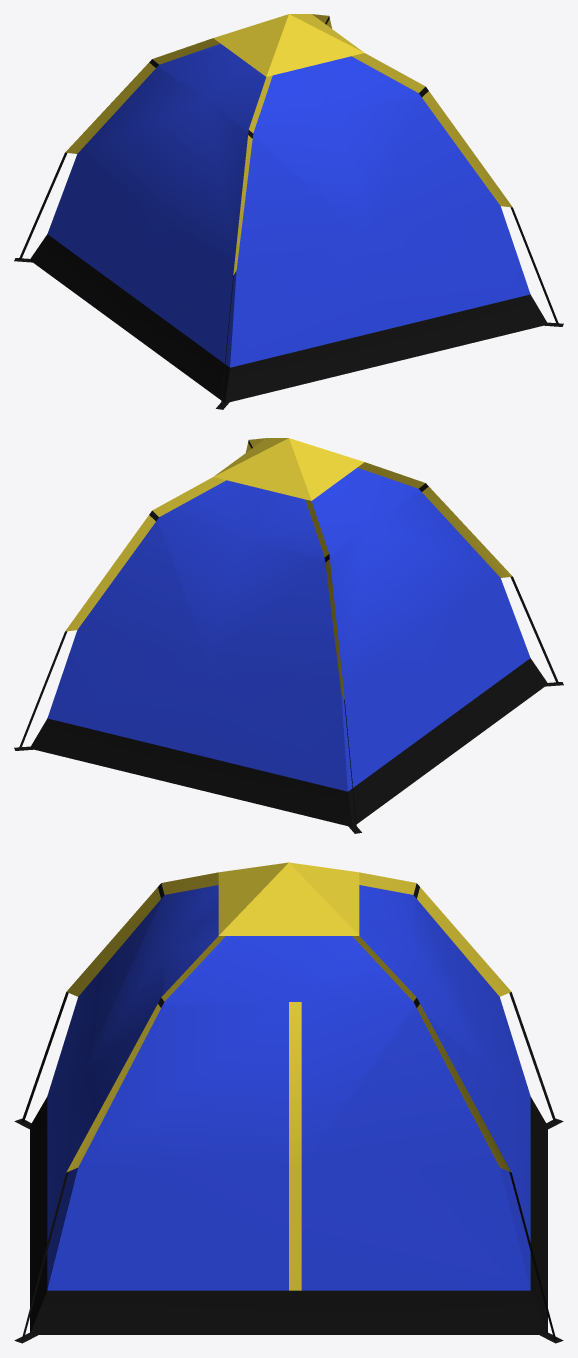
File: tent.glb
The picture shows the model from 3 angles, top to bottom: view 1: azimuth 30°, elevation 25°; view 2: azimuth 150°, elevation 25°; view 3: azimuth 270°, elevation 25°; orthographic projection. The views are drawn at different scales.
Parts seen in each view (by area): view 1: Cube.005; view 2: Cube.005; view 3: Cube.005.
Boxes of the visible parts, box(x1,y1,x2,y2) form: Cube.005: box(14, 14, 563, 409); Cube.005: box(14, 438, 563, 833); Cube.005: box(14, 862, 563, 1343).
Size of the model in its own units: 2.68 by 2.04 by 2.76.
